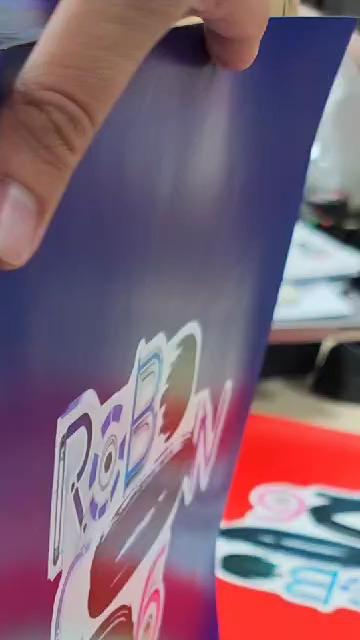B_R1: (31, 300, 253, 640)
